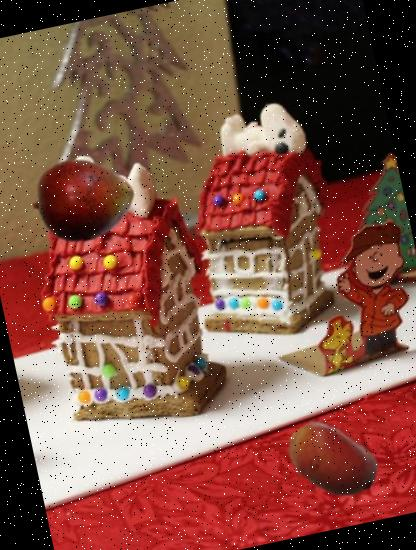Mango: (22, 138, 145, 260)
Nectarine: (276, 404, 388, 518)
